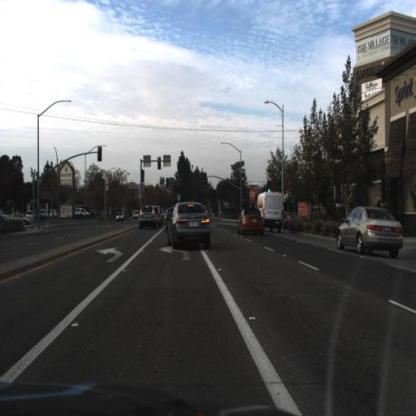car: (335, 208, 406, 259), (337, 207, 404, 258), (168, 203, 212, 254), (236, 207, 267, 239), (235, 210, 263, 238), (139, 206, 160, 233), (139, 205, 155, 229), (160, 207, 174, 228), (239, 207, 248, 223), (156, 207, 163, 226), (116, 210, 126, 223), (199, 207, 208, 219), (133, 213, 141, 220)
trafficLight: (98, 145, 106, 167), (157, 157, 164, 173), (143, 171, 147, 185)
trafficLight-Green: (201, 172, 209, 188), (268, 187, 274, 199), (175, 182, 180, 196), (167, 180, 170, 189)
truck: (256, 191, 288, 234), (255, 191, 285, 231)
